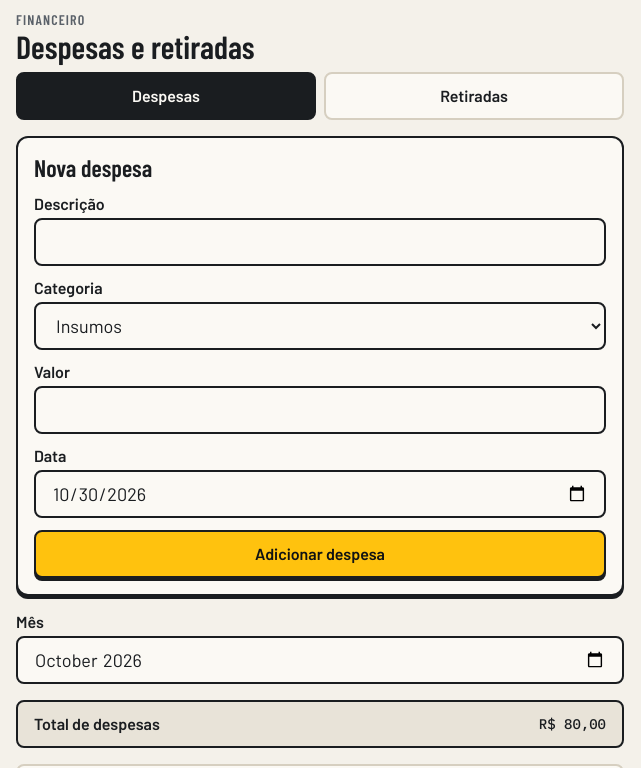
Despesas e retiradas › mostra erro de validação da API no campo (422) e erro geral no topo
Step 1. Type "Teste" into the field labelled "Descrição" → (320, 242), box [34,218,606,266]
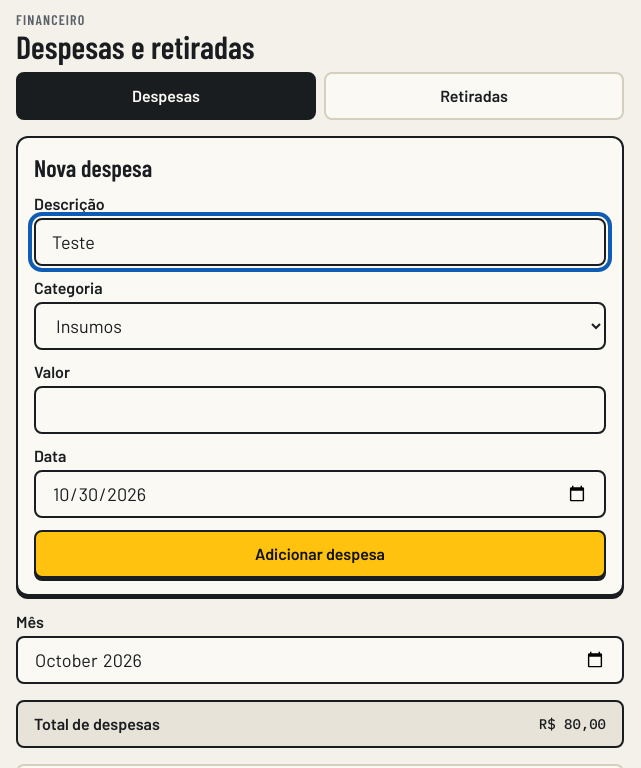
Step 2. Type "10" into the field labelled "Valor" → (320, 410), box [34,386,606,434]
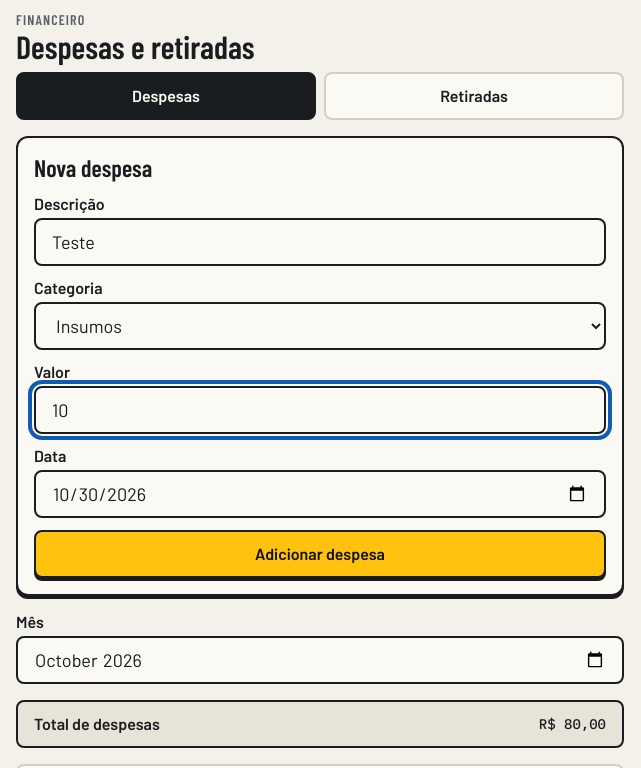
Step 3. Click the button "Adicionar despesa" → (320, 554), box [34,530,606,578]
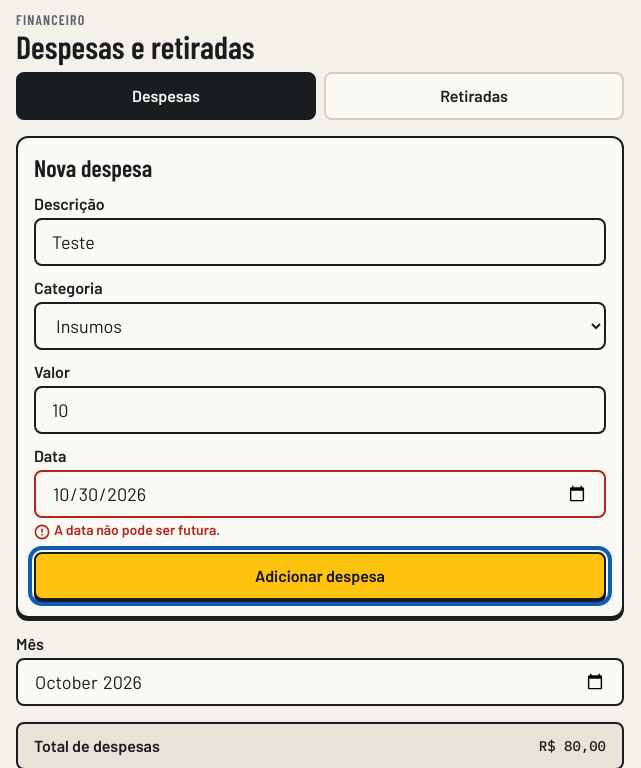
Result: the text "A data não pode ser futura." is shown at [34,521,220,540]
Step 4. Click the button "Adicionar despesa" → (320, 576), box [34,552,606,600]
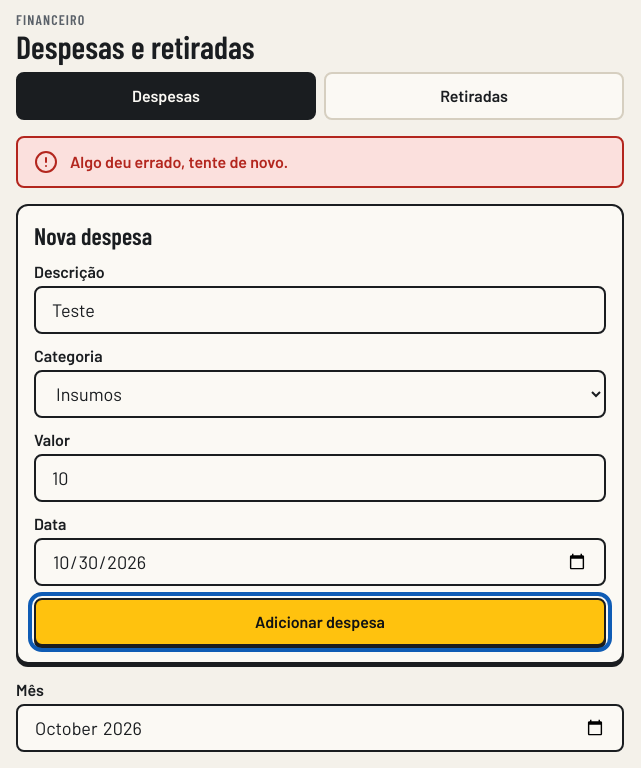
Result: the message shows "Algo deu errado" at [70,152,288,171]
